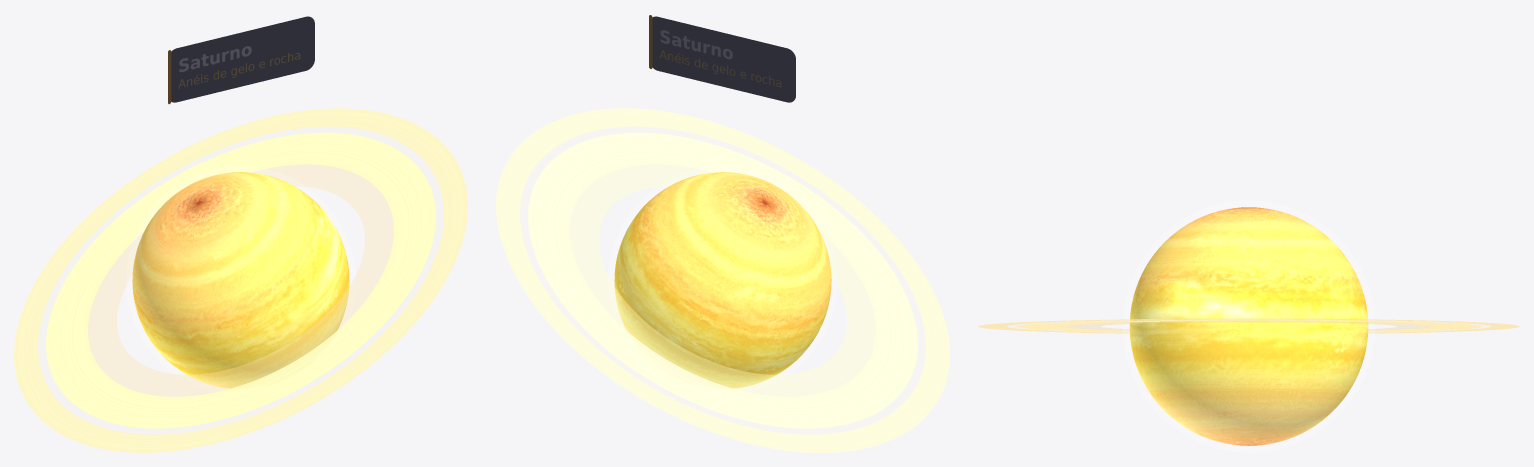
File: saturno.glb
3 views of the same model, side by side, from view 1: azimuth 30°, elevation 25°; view 2: azimuth 150°, elevation 25°; view 3: azimuth 270°, elevation 25° (orthographic). The views are drawn at different scales.
Parts seen in each view (by area): view 1: aneis, Saturno, Saturno_brilho, cartao; view 2: aneis, Saturno, Saturno_brilho, cartao; view 3: Saturno_brilho, Saturno, aneis.
Part boxes in pixels (bbox=[...]): aneis: bbox=[14, 108, 467, 452]; Saturno: bbox=[132, 172, 349, 388]; Saturno_brilho: bbox=[126, 166, 354, 373]; cartao: bbox=[168, 16, 314, 104]; aneis: bbox=[496, 108, 949, 452]; Saturno: bbox=[614, 172, 831, 388]; Saturno_brilho: bbox=[609, 166, 837, 373]; cartao: bbox=[649, 15, 795, 102]; Saturno_brilho: bbox=[1123, 200, 1374, 452]; Saturno: bbox=[1129, 207, 1368, 445]; aneis: bbox=[978, 318, 1519, 333].
Size of the model in its own units: 0.8112 by 0.7166 by 0.908.
4 materials, 3 textured.
